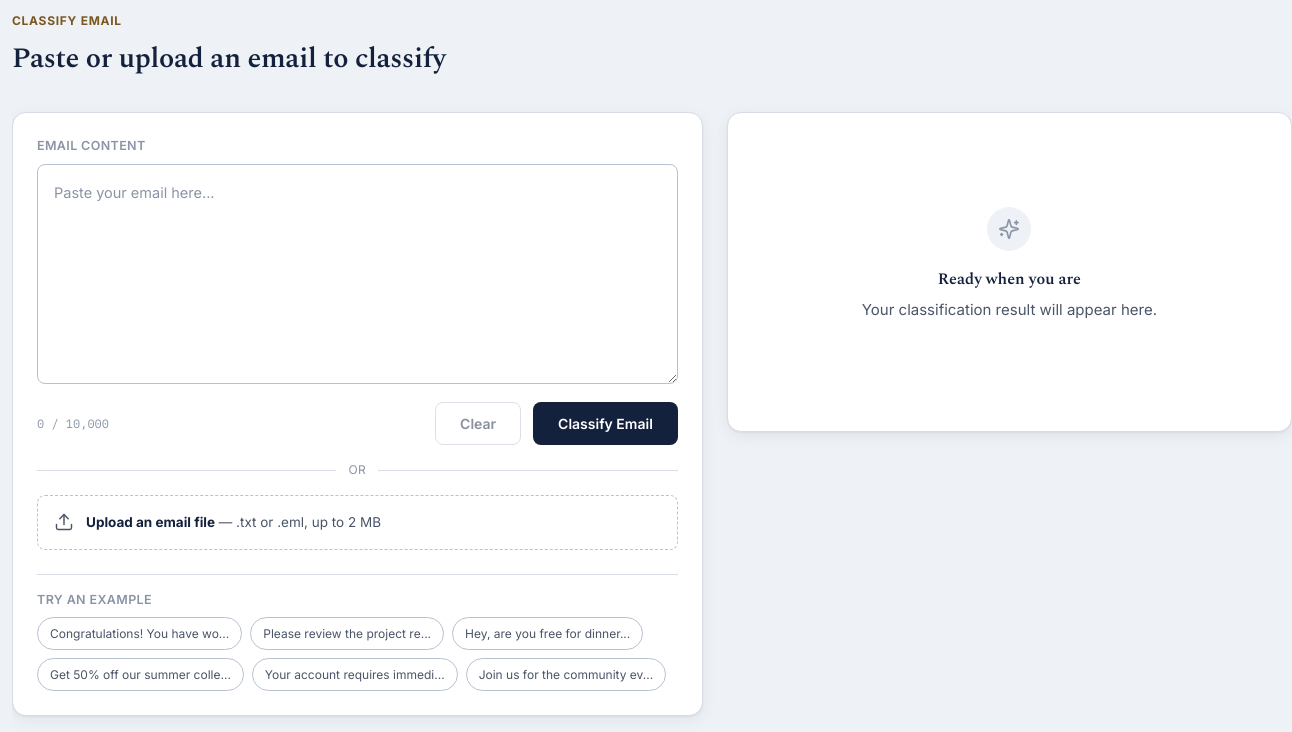
Test: ClassifyEmail › shows an error message when classification fails
The width and height of the screenshot is (1292, 732).
In the text box labelled "Email content": (357,274) x1=37 y1=164 x2=678 y2=384, type "Test email content"
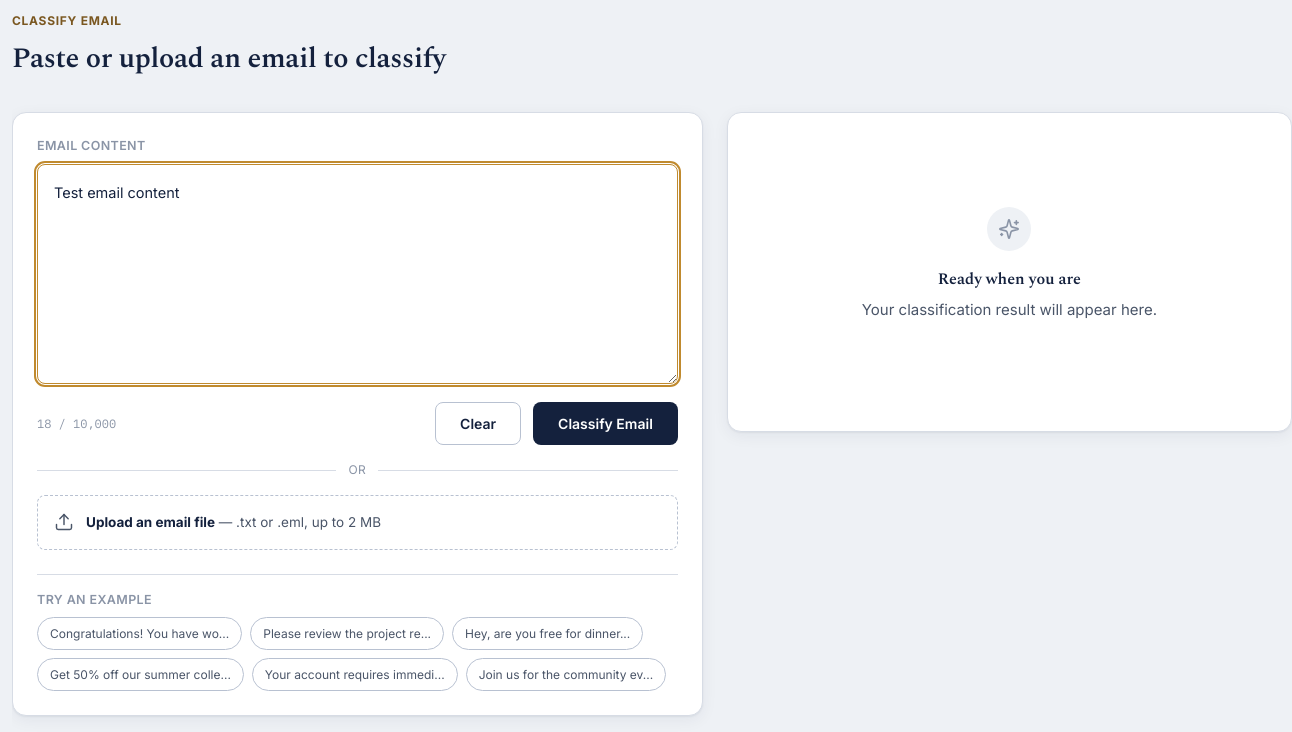
Click the button "Classify Email": (605,424) x1=533 y1=402 x2=678 y2=445
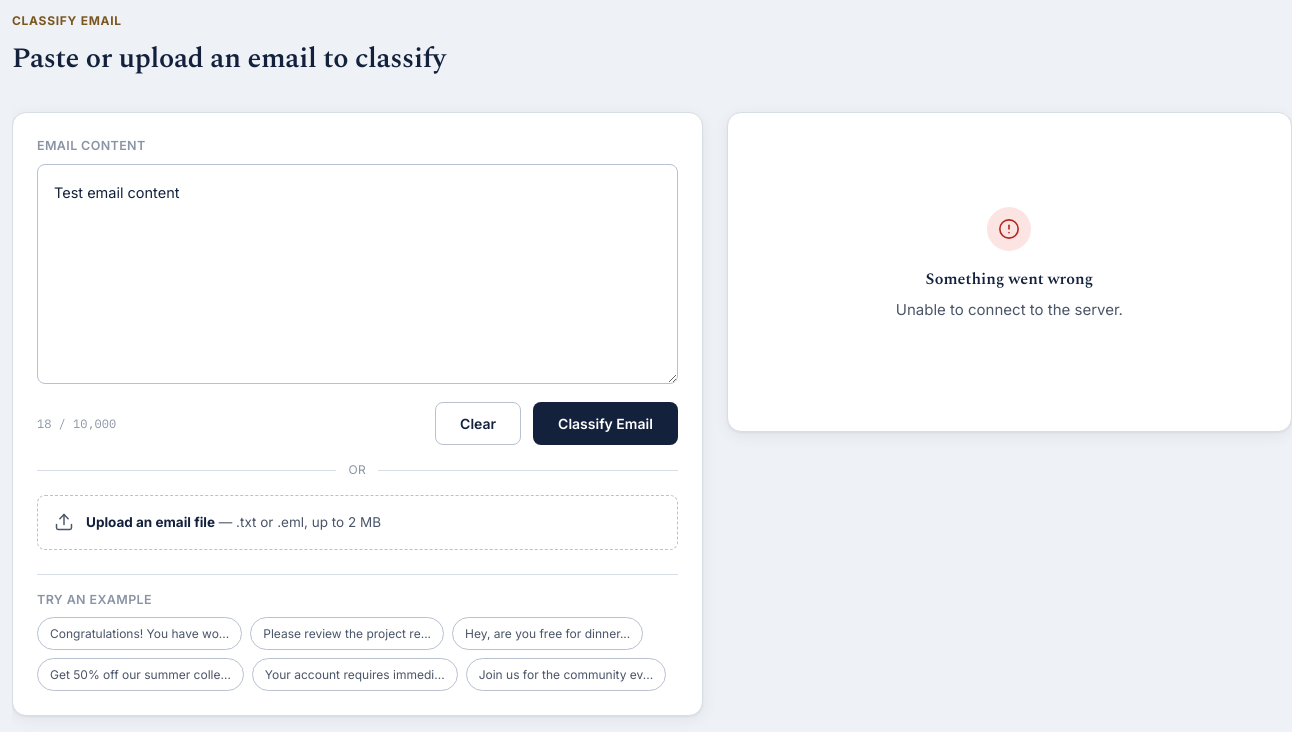
expect the text "Unable to connect to the server." is shown: met, box x1=896 y1=299 x2=1123 y2=321
